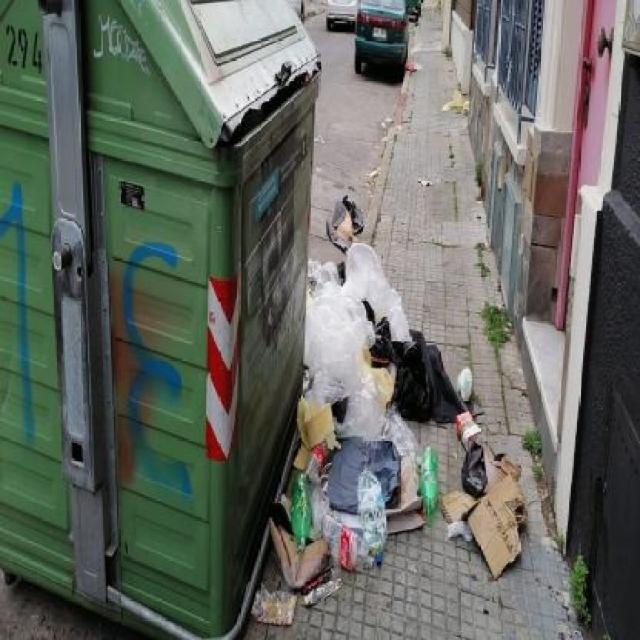garbage: (306, 174, 547, 621), (261, 474, 356, 640), (428, 60, 470, 134), (397, 45, 424, 100)
